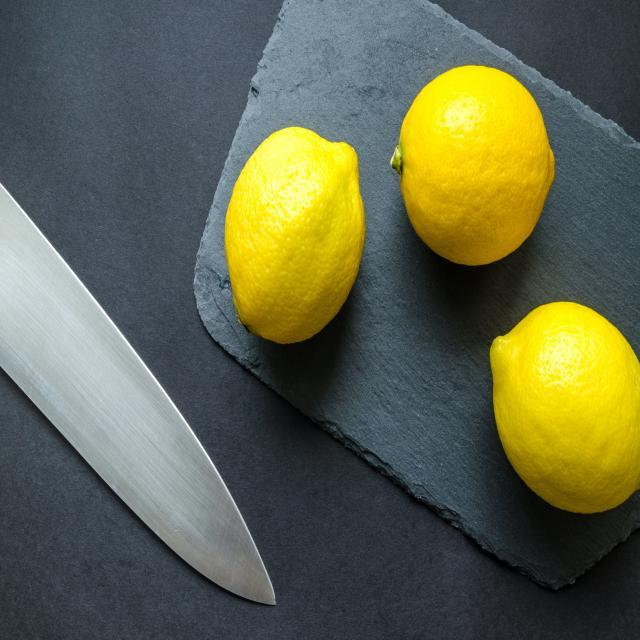Knife: (0, 182, 276, 608)
